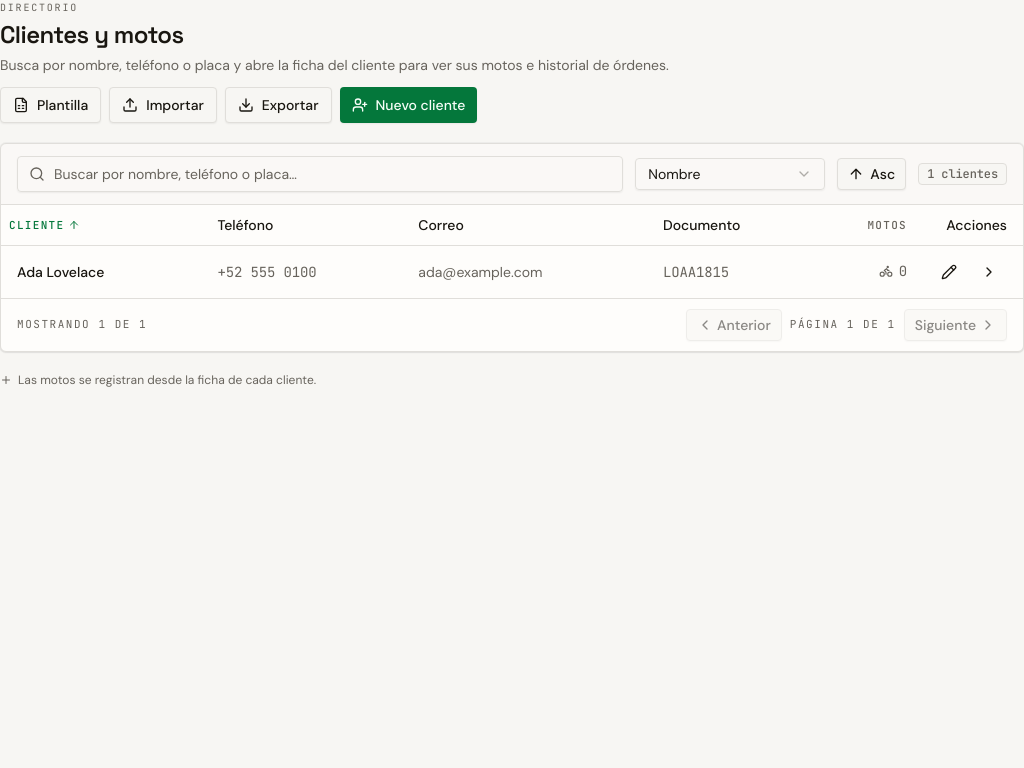
Scenario: CustomersPage customer modal (characterization) › opens a blank create modal from the new-customer button
Expected: the link "Ada Lovelace" is shown, x1=17 y1=262 x2=104 y2=280
Click the button with test id "customers.open_modal_button": (408, 105) x1=340 y1=87 x2=477 y2=123
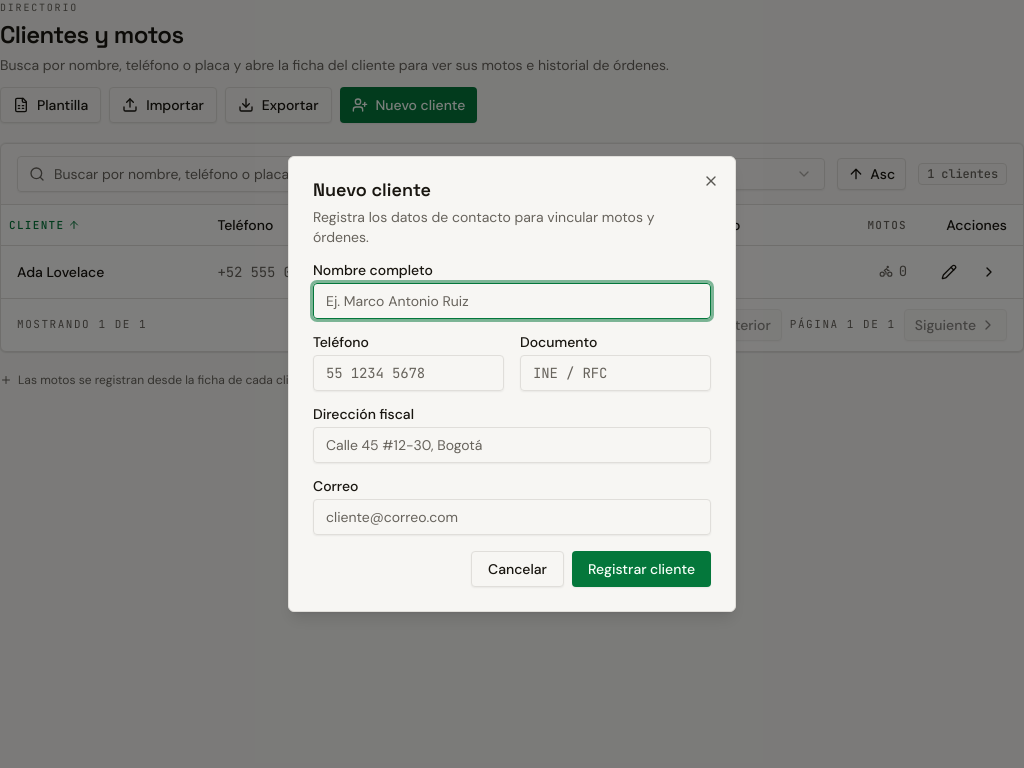
Expected: the heading "Nuevo cliente" is shown, x1=313 y1=178 x2=431 y2=201
Expected: the field with test id "customer.name_input" is empty, x1=313 y1=283 x2=711 y2=319
Expected: the field with test id "customer.phone_input" is empty, x1=313 y1=355 x2=504 y2=391
